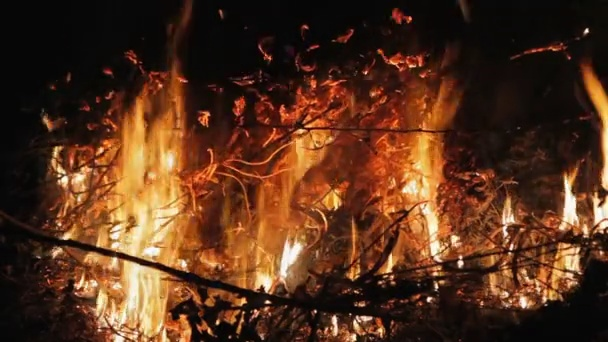fire: (43, 98, 188, 342), (228, 128, 305, 291), (401, 103, 440, 267), (585, 70, 608, 183), (563, 174, 577, 230), (595, 195, 607, 228), (502, 198, 513, 226)
